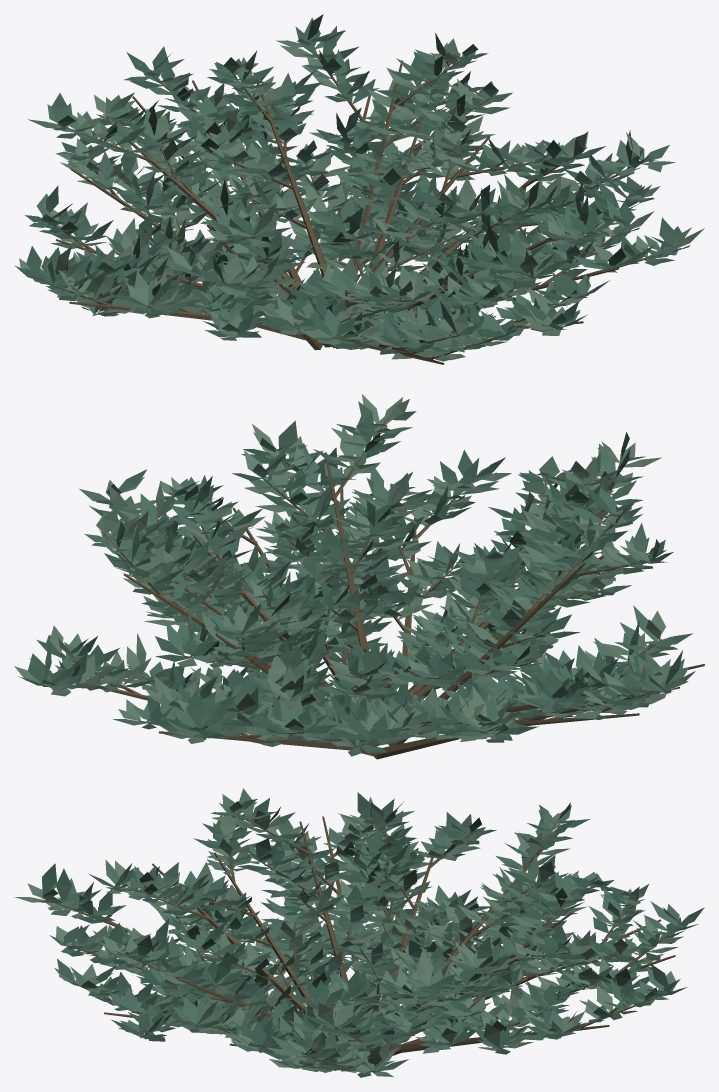
Rendered from bush_11.glb.
3 views of the same model, one above another, from view 1: azimuth 30°, elevation 25°; view 2: azimuth 150°, elevation 25°; view 3: azimuth 270°, elevation 25° (orthographic). The views are drawn at different scales.
Visible parts, largest first — view 1: bush_11; view 2: bush_11; view 3: bush_11.
Boxes of the visible parts, left/top/right/bottom form: bush_11: left=15, top=14, right=704, bottom=364; bush_11: left=14, top=394, right=704, bottom=759; bush_11: left=14, top=788, right=704, bottom=1077.
Size of the model in its own units: 2.48 by 0.8796 by 2.69.
